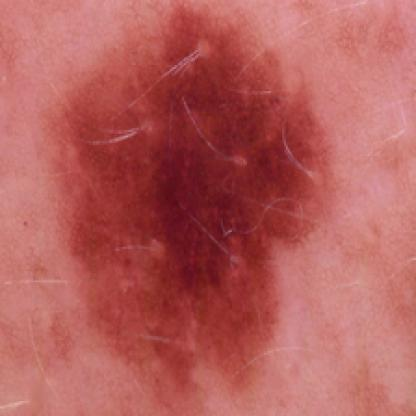benign: (63, 21, 342, 388)
